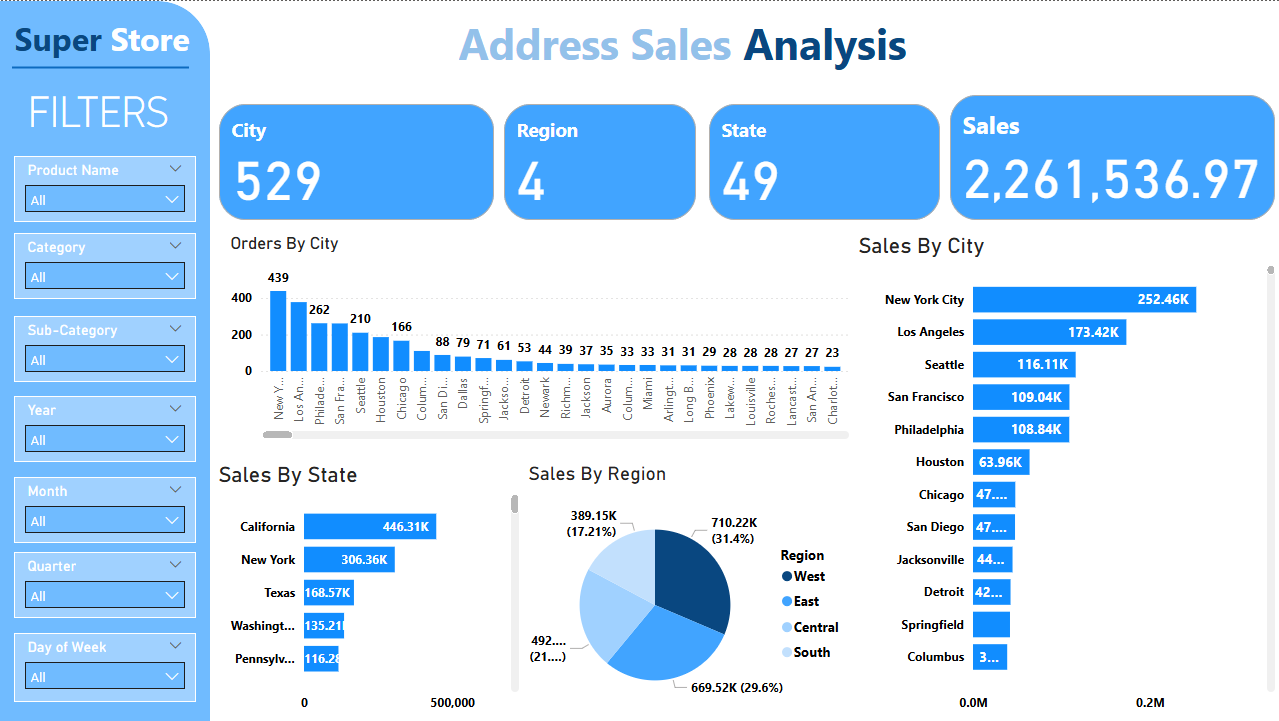

Layout of this report page (visuals, bound fields, positions):
{"tool":"powerbi","page":{"name":"Address","canvas":[1280,720],"ordinal":3},"visuals":[{"type":"shape","box":[0,0,210,720],"z":0},{"type":"cardVisual","fields":{"Data":["FactTable.City"]},"box":[214,98,285,126],"z":1000},{"type":"textbox","box":[454,8,532,90],"z":2000},{"type":"cardVisual","fields":{"Data":["FactTable.TotalSales","FactTable.TotalSales"]},"box":[945,89,335,135],"z":3000},{"type":"barChart","title":"Sales By City","fields":{"Category":["DimAddress.City"],"Y":["FactTable.TotalSales"]},"box":[854,232,426,488],"z":4000},{"type":"pieChart","title":"Sales By Region","fields":{"Category":["DimAddress.Region"],"Y":["Sum(FactTable.Sales)","Sum(FactTable.Sales)"]},"box":[524,461,330,259],"z":5000},{"type":"barChart","title":"Sales By State","fields":{"Category":["DimAddress.State"],"Y":["FactTable.TotalSales"]},"box":[214,461,310,259],"z":6000},{"type":"columnChart","title":"Orders By City","fields":{"Y":["FactTable.TotalOrders"],"Category":["DimAddress.City"]},"box":[226,232,628,211],"z":7000},{"type":"cardVisual","fields":{"Data":["FactTable.Region"]},"box":[499,98,202,126],"z":8000},{"type":"cardVisual","fields":{"Data":["FactTable.State"]},"box":[704,98,241,126],"z":9000},{"type":"slicer","fields":{"Values":["DimProduct.Category"]},"box":[14,232,182,66],"z":9001},{"type":"slicer","fields":{"Values":["DimDate.Month"]},"box":[14,476,182,66],"z":9002},{"type":"slicer","fields":{"Values":["DimDate.Quarter"]},"box":[14,551,182,66],"z":9003},{"type":"slicer","fields":{"Values":["DimDate.Day of Week"]},"box":[14,632,182,69],"z":9004},{"type":"slicer","fields":{"Values":["DimProduct.Product Name"]},"box":[14,155,182,66],"z":9005},{"type":"slicer","fields":{"Values":["DimProduct.Sub-Category"]},"box":[14,315,182,66],"z":9006},{"type":"slicer","fields":{"Values":["DimDate.Year"]},"box":[14,395,182,66],"z":9007},{"type":"shape","box":[12,44,177,45],"z":9008},{"type":"textbox","box":[12,81,177,60],"z":9009},{"type":"textbox","box":[10,10,226,67],"z":9010}]}

Visuals, with their boxes in screenshot pixels (x1, y1, x2, y2), scaled from the page's 1280x720 canvas onto the 1279x721 screenshot:
shape: 0/0/210/720
cardVisual - FactTable.City: 214/98/499/224
textbox: 454/8/985/98
cardVisual - FactTable.TotalSales x FactTable.TotalSales: 944/89/1278/224
"Sales By City" barChart: 853/232/1278/720
"Sales By Region" pieChart: 524/462/853/720
"Sales By State" barChart: 214/462/524/720
"Orders By City" columnChart: 226/232/853/444
cardVisual - FactTable.Region: 499/98/700/224
cardVisual - FactTable.State: 703/98/944/224
slicer - DimProduct.Category: 14/232/196/298
slicer - DimDate.Month: 14/477/196/543
slicer - DimDate.Quarter: 14/552/196/618
slicer - DimDate.Day of Week: 14/633/196/702
slicer - DimProduct.Product Name: 14/155/196/221
slicer - DimProduct.Sub-Category: 14/315/196/382
slicer - DimDate.Year: 14/396/196/462
shape: 12/44/189/89
textbox: 12/81/189/141
textbox: 10/10/236/77
